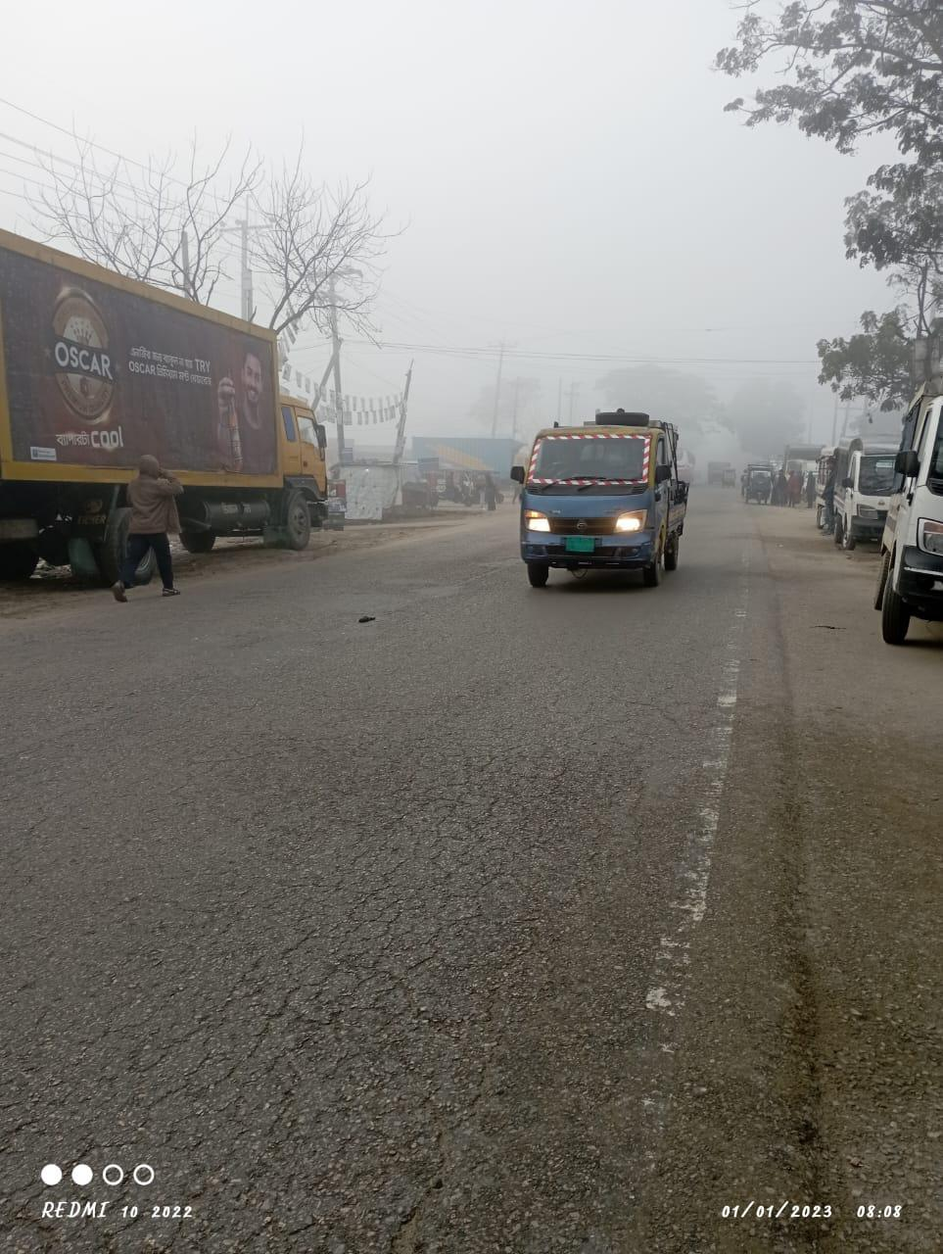Car: (820, 411, 893, 556), (738, 452, 780, 513)
Truck: (1, 217, 351, 585), (498, 404, 705, 600)
